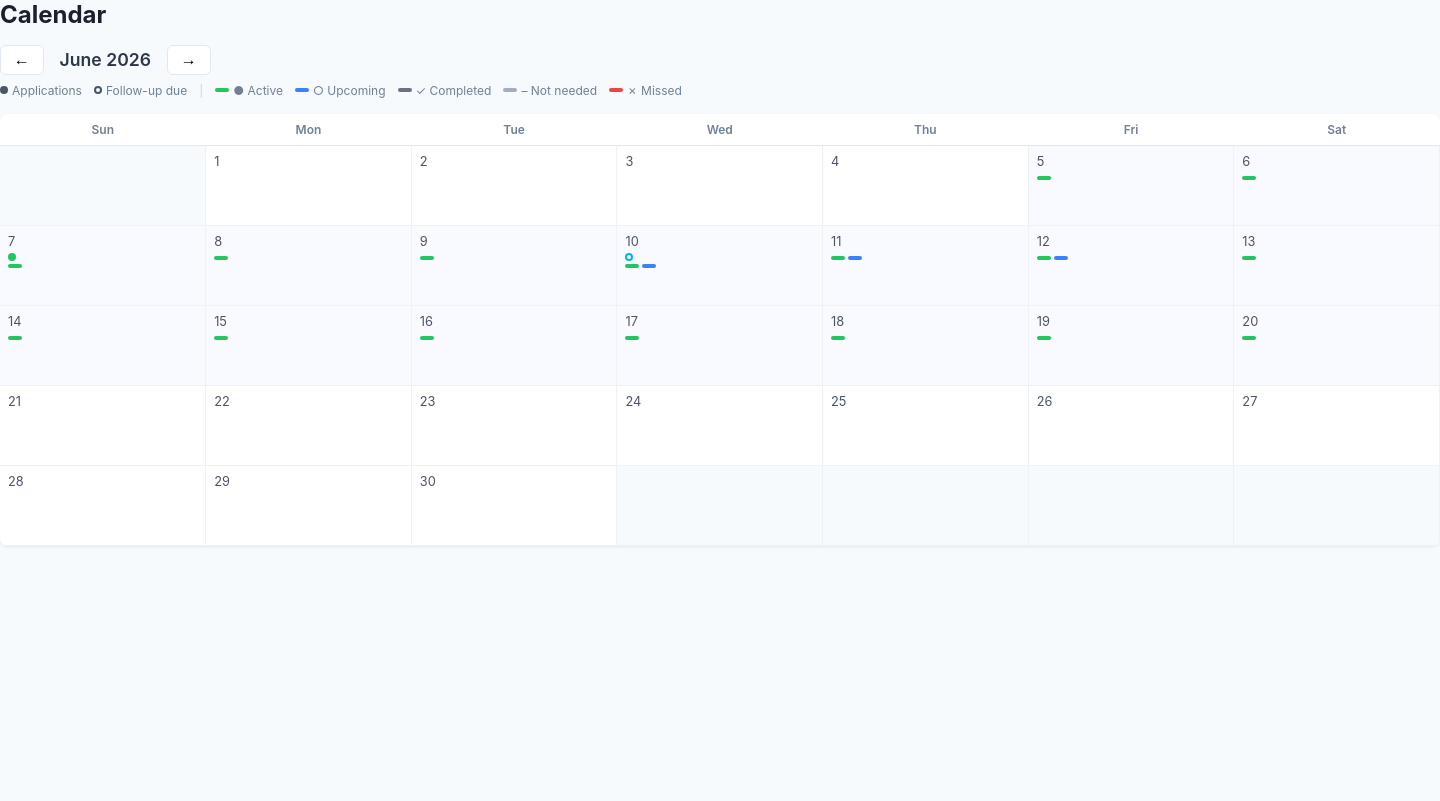
Scenario: Calendar page › opens a day's details by click and by keyboard
Click the text "7" at [103, 265], box [0,225,206,305]
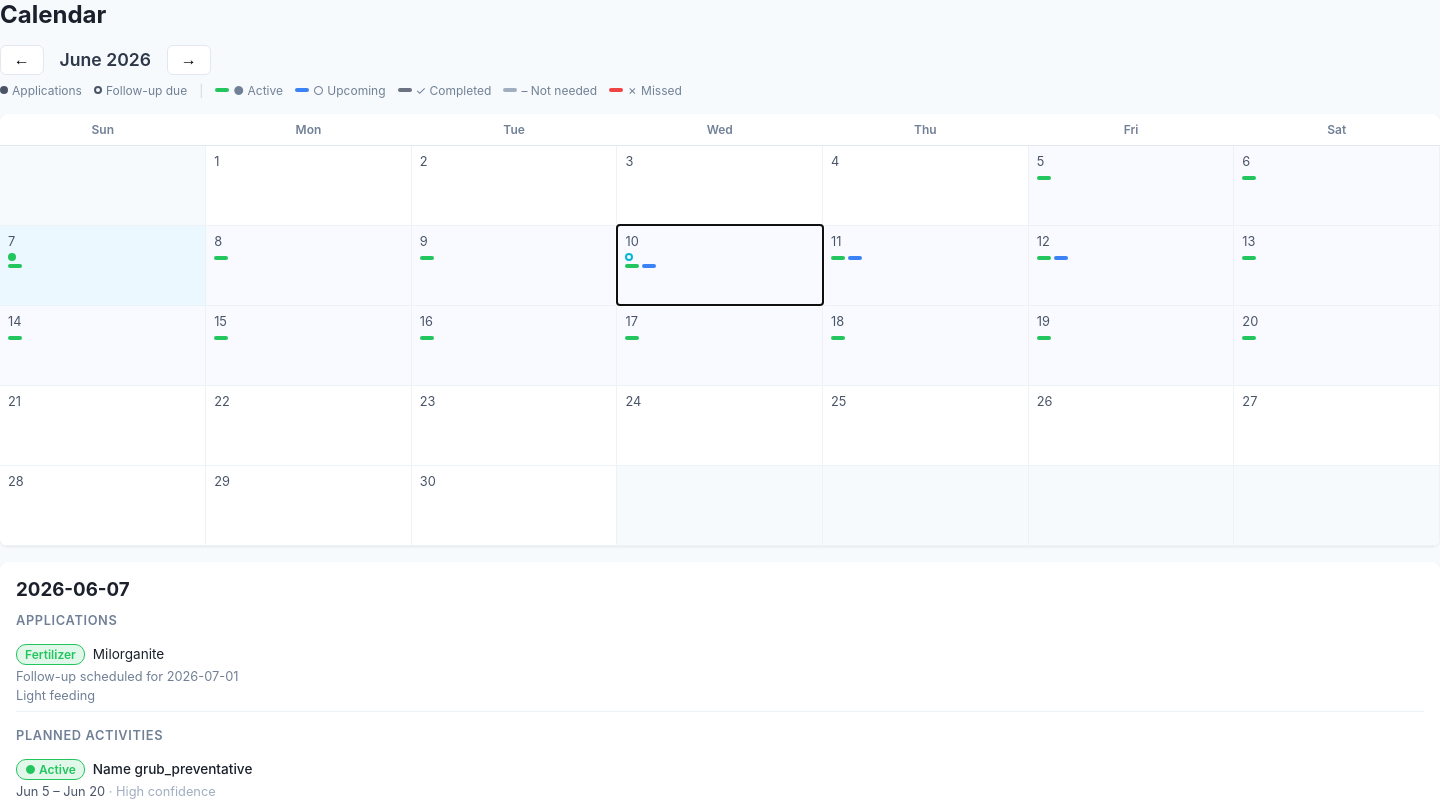
Now the text "Fertilizer" is shown, box [16,644,85,665]
Now the text "Milorganite" is shown, box [93,646,164,662]
Now the text "Follow-up scheduled for 2026-07-01" is shown, box [16,669,238,684]
Press Enter
(page scrolled)
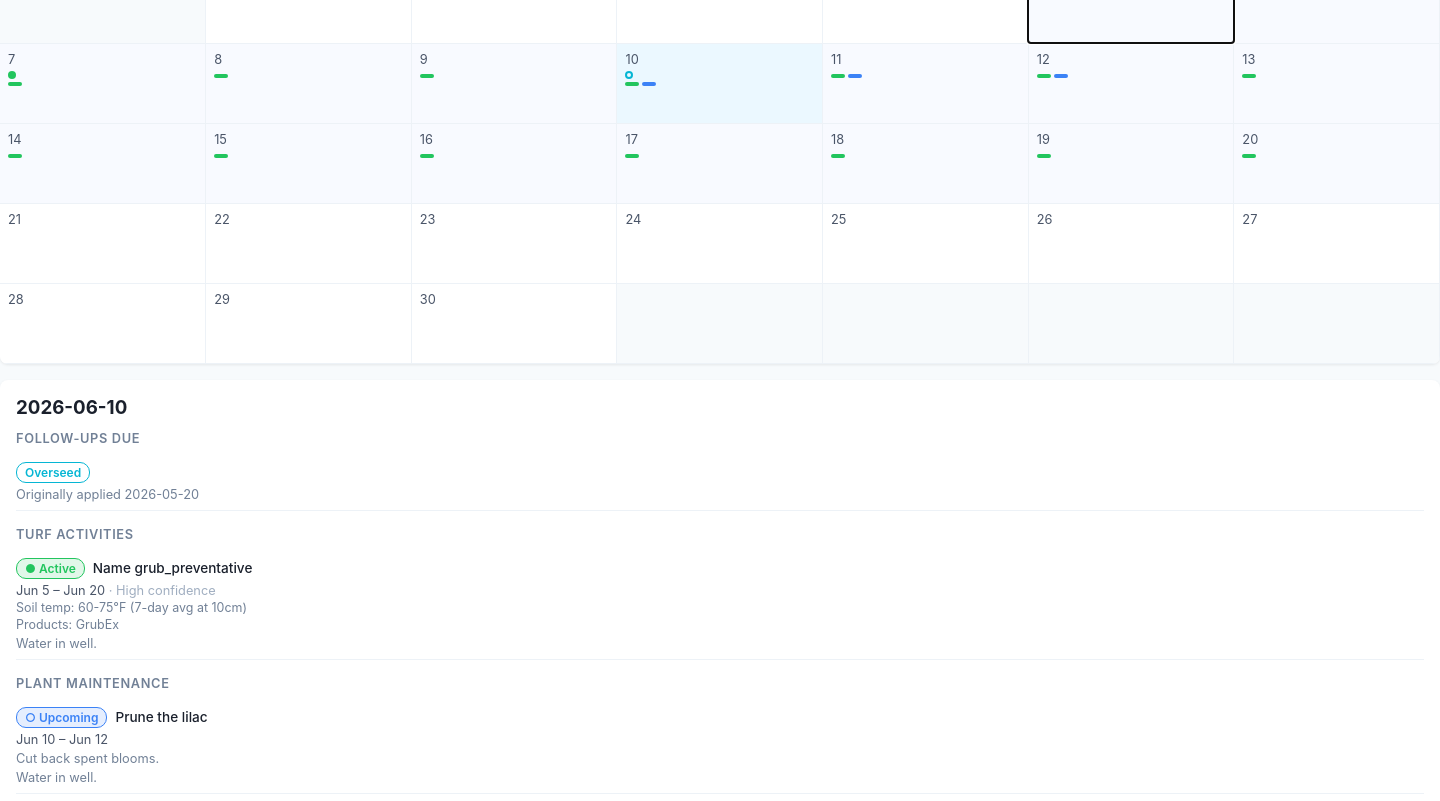
Now the heading "Follow-ups Due" is shown, box [16,431,140,446]
Now the text "Originally applied 2026-05-20" is shown, box [16,487,199,502]
Now the heading "Turf Activities" is shown, box [16,527,134,542]
Type keys " "
(page scrolled)
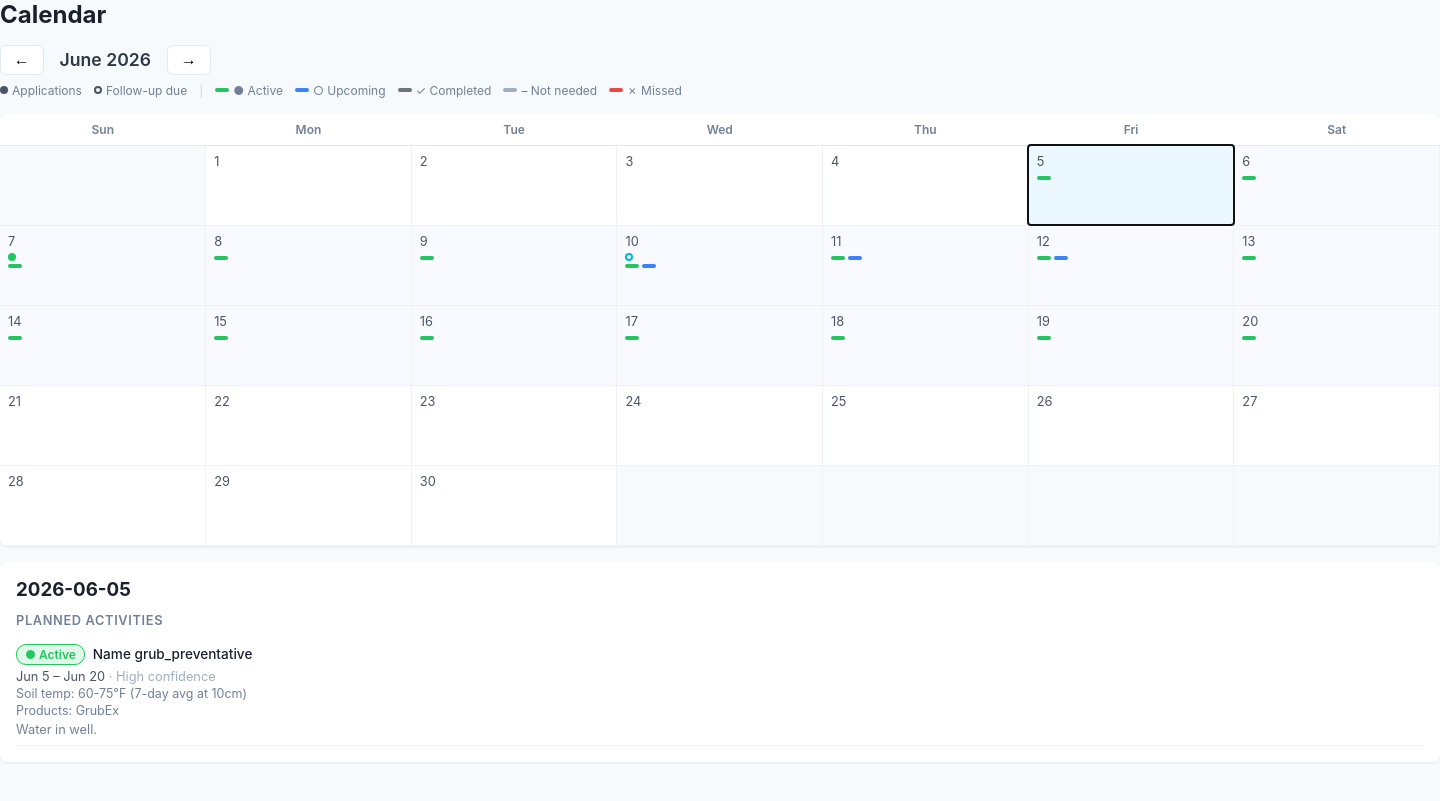
Now the heading "2026-06-05" is shown, box [16,578,131,601]
